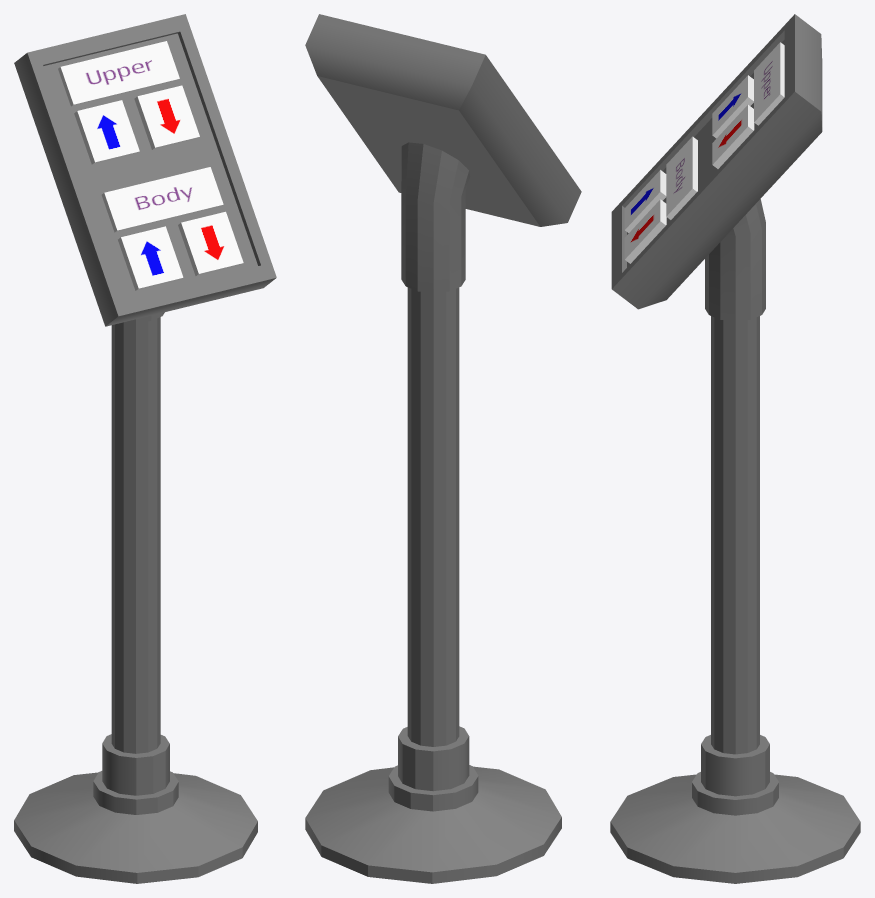
File: Controlled.fbx
The picture shows the model from 3 angles, left to right: view 1: azimuth 30°, elevation 25°; view 2: azimuth 150°, elevation 25°; view 3: azimuth 270°, elevation 25°; orthographic projection. The views are drawn at different scales.
Parts seen in each view (by area): view 1: pCylinder5, pCube16, pCube20, pCube21, pCube26, pCube27, pCube28, pCube29; view 2: pCylinder5, pCube16; view 3: pCylinder5, pCube16, pCube20, pCube21, pCube28, pCube27, pCube29, pCube26.
Part boxes in pixels (x1=…): pCylinder5: x1=14, y1=312, x2=257, y2=883; pCube16: x1=14, y1=14, x2=276, y2=326; pCube20: x1=101, y1=167, x2=223, y2=232; pCube21: x1=58, y1=41, x2=179, y2=106; pCube26: x1=74, y1=100, x2=139, y2=164; pCube27: x1=134, y1=85, x2=199, y2=149; pCube28: x1=178, y1=211, x2=243, y2=276; pCube29: x1=118, y1=226, x2=183, y2=290; pCylinder5: x1=305, y1=142, x2=561, y2=883; pCube16: x1=305, y1=14, x2=581, y2=226; pCylinder5: x1=610, y1=199, x2=860, y2=883; pCube16: x1=611, y1=14, x2=822, y2=309; pCube20: x1=666, y1=136, x2=697, y2=219; pCube21: x1=754, y1=42, x2=784, y2=125; pCube28: x1=624, y1=199, x2=666, y2=263; pCube27: x1=712, y1=105, x2=754, y2=168; pCube29: x1=624, y1=170, x2=666, y2=232; pCube26: x1=712, y1=75, x2=753, y2=138.
Bounding box in the file's own units: 33.71 × 119 × 34.69.
